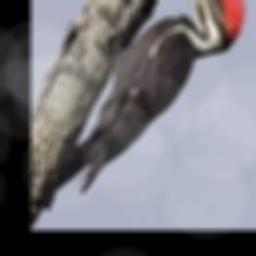Woodpecker: (32, 0, 245, 209)
